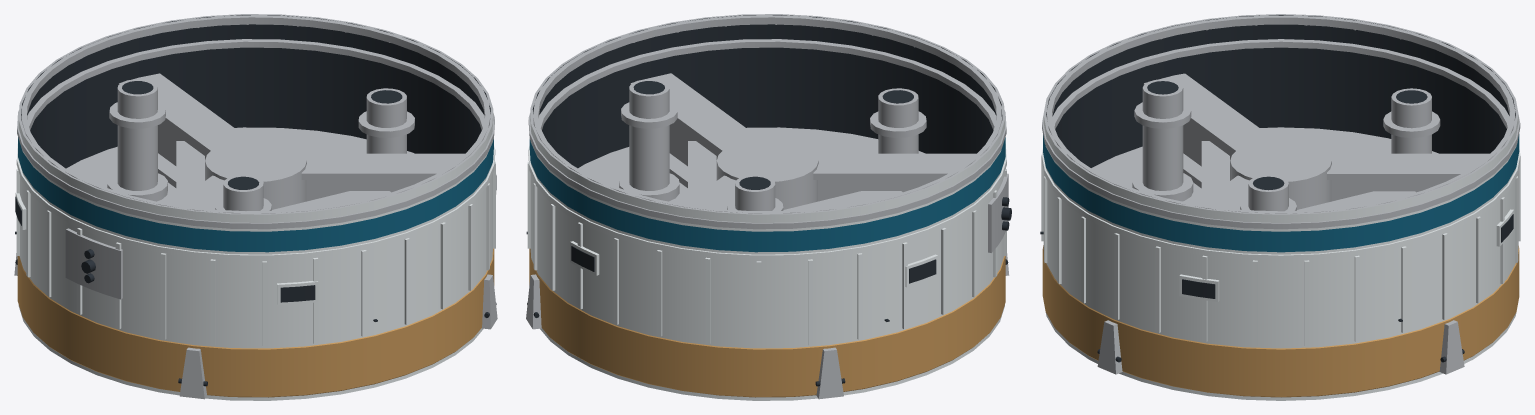
The model's file is mount_s1_3_d37.glb.
3 renders of one model, left to right at view 1: azimuth 30°, elevation 25°; view 2: azimuth 150°, elevation 25°; view 3: azimuth 270°, elevation 25°, orthographic.
Visible parts, largest first — view 1: mount_s1_3_d37_mesh; view 2: mount_s1_3_d37_mesh; view 3: mount_s1_3_d37_mesh.
Part boxes in pixels (<box>): mount_s1_3_d37_mesh: <box>14,14,497,400</box>; mount_s1_3_d37_mesh: <box>526,14,1011,400</box>; mount_s1_3_d37_mesh: <box>1040,14,1520,400</box>.
Bounding box in the file's own units: 3.73 × 1.6 × 3.74.
